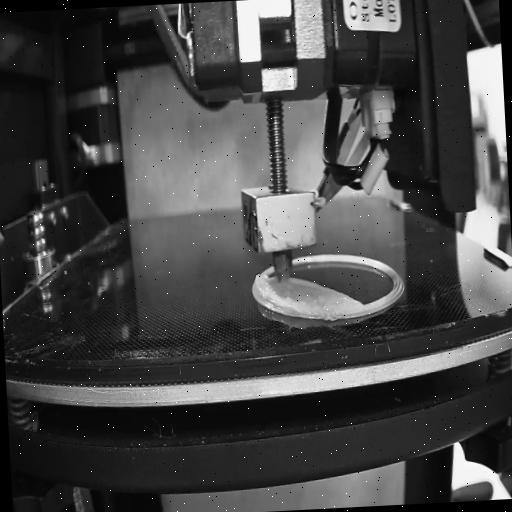over_extrusion: (290, 274, 352, 304), (249, 270, 276, 308)
